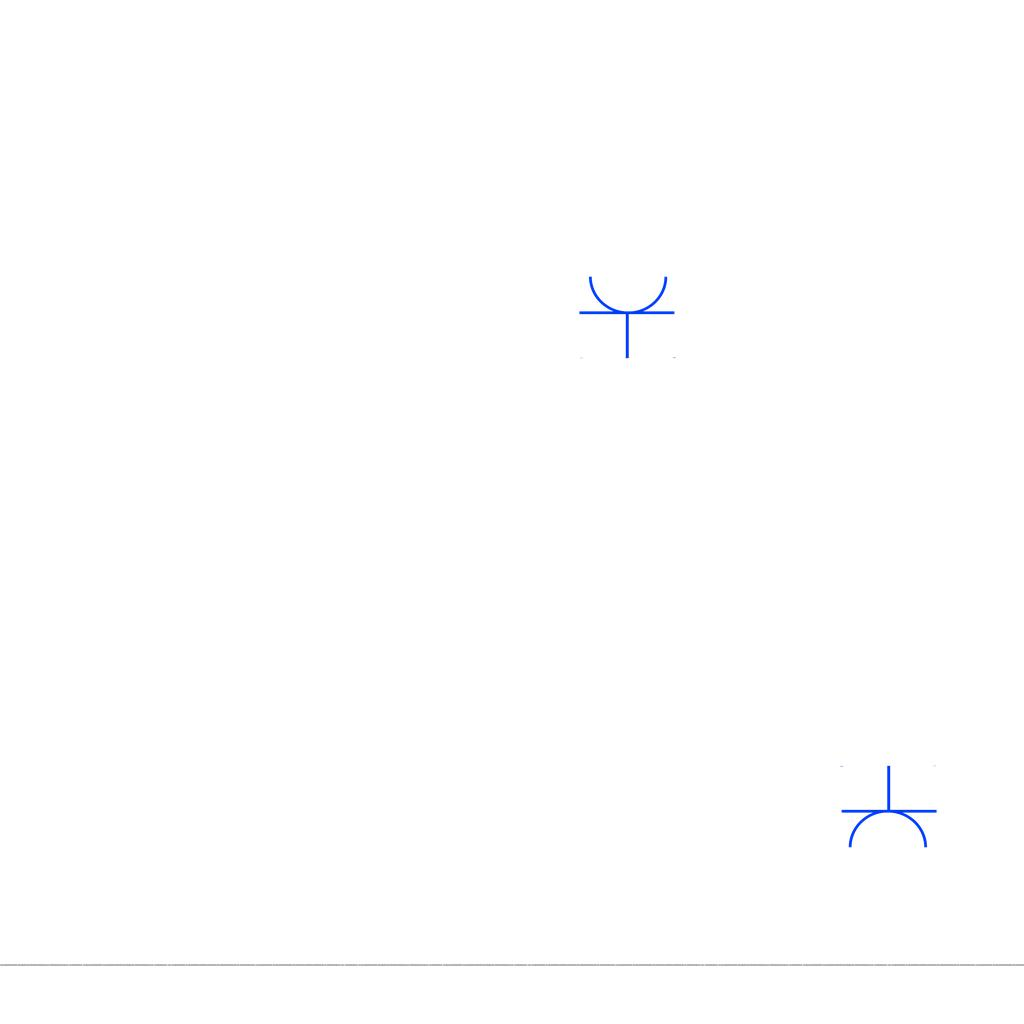Schukosteckdose_einfach: (578, 272, 678, 359), (838, 765, 938, 852)
